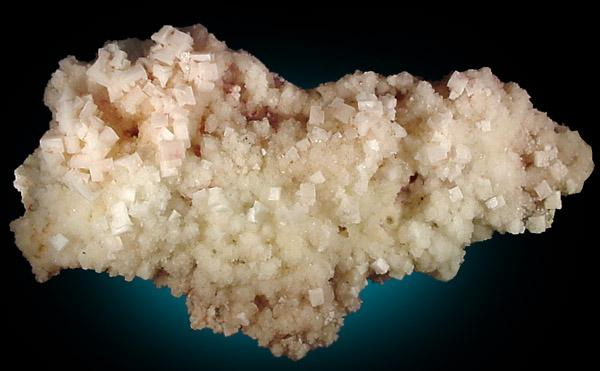halite: (11, 25, 593, 360)
